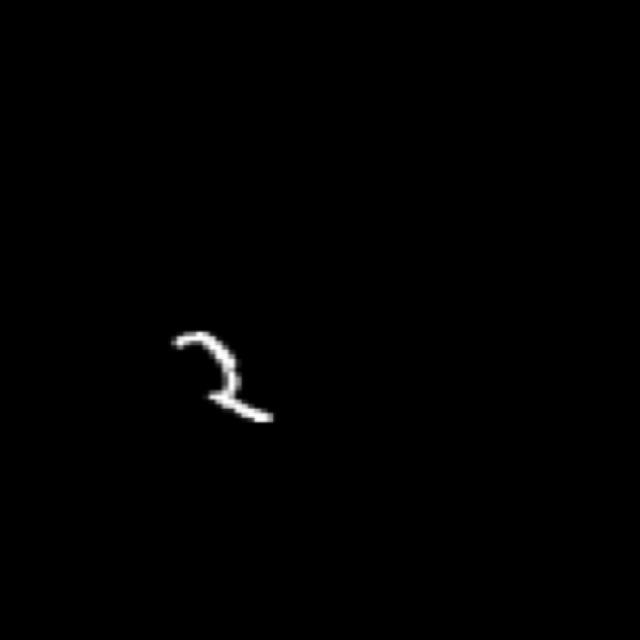two -2-: (157, 322, 294, 443)
